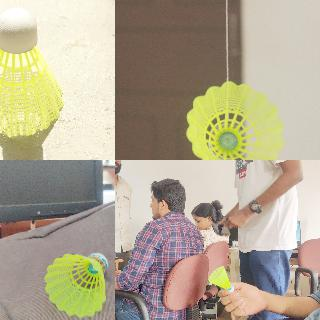shuttlecock: (0, 7, 64, 135), (185, 80, 283, 159), (45, 252, 111, 314), (208, 266, 234, 292)
